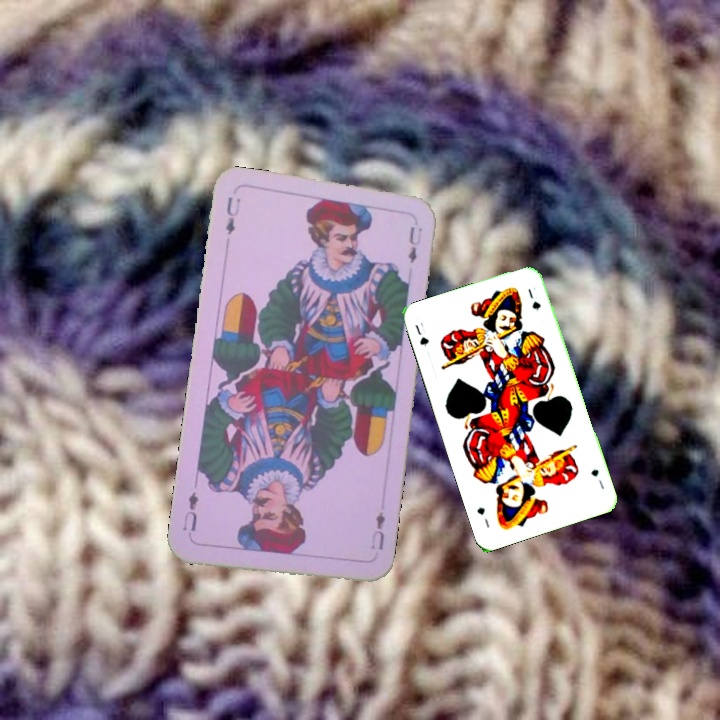EU: (222, 192, 243, 238), (367, 507, 388, 552)
GU: (411, 318, 432, 350), (587, 465, 607, 491)
